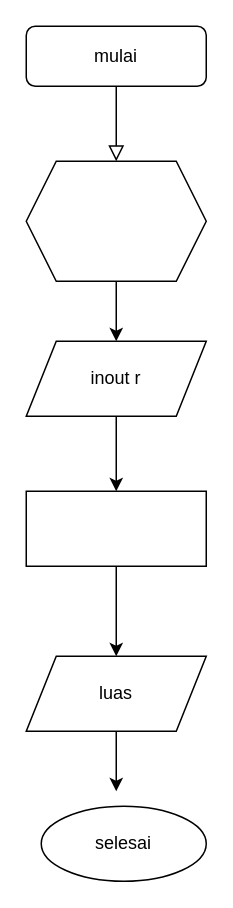
The diagram is 233 pixels wide and 908 high, and some of its shapes have lost their labels. The shapes that lost their labels are listed below. From the top down, each one's centre as x and y in pixels, then its label:
At (x=115, y=220): "float phi=3.14 ntegar r float luas".
At (x=115, y=528): "luas=(phi x r)^2".
